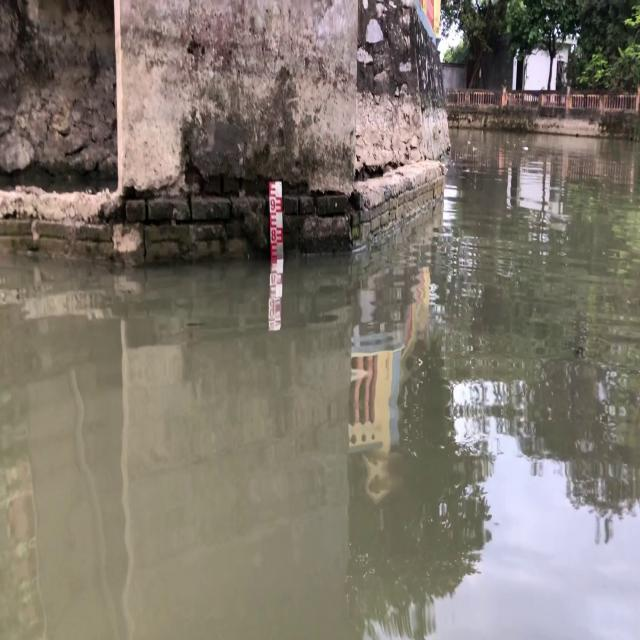ruler: (264, 177, 291, 261)
value: (270, 228, 279, 244), (269, 197, 277, 213)
